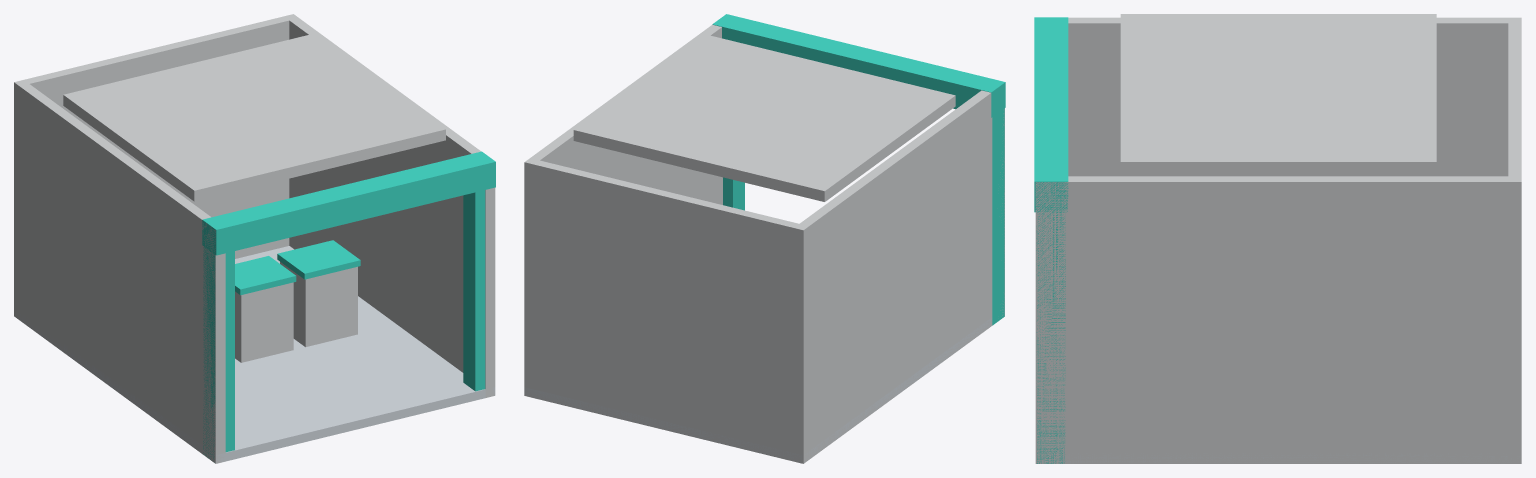
3 views of the same model, side by side, from view 1: azimuth 30°, elevation 25°; view 2: azimuth 150°, elevation 25°; view 3: azimuth 270°, elevation 25° (orthographic). The views are drawn at different scales.
Visible parts, largest first — view 1: Exhibition Booth Concept; view 2: Exhibition Booth Concept; view 3: Exhibition Booth Concept.
Boxes of the visible parts, x1,y1,x2,y2 form: Exhibition Booth Concept: (14, 14, 495, 463); Exhibition Booth Concept: (524, 14, 1005, 463); Exhibition Booth Concept: (1034, 14, 1521, 463).
Size of the model in its own units: 4 by 3.34 by 5.02.
